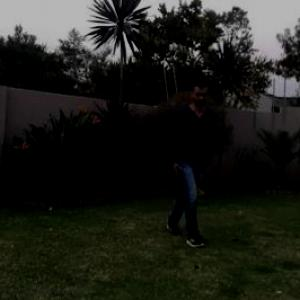follow: (167, 76, 211, 229)
